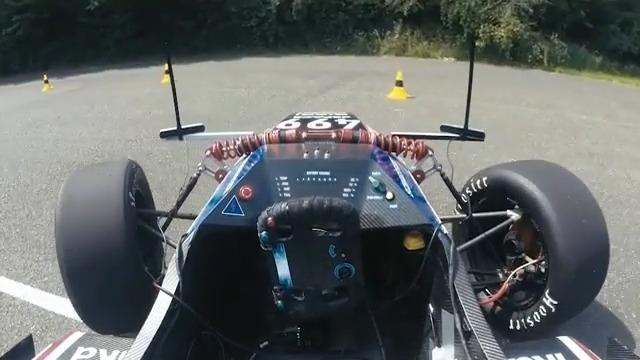yellow_cone: (386, 71, 412, 101), (161, 63, 175, 84), (42, 75, 53, 91)
